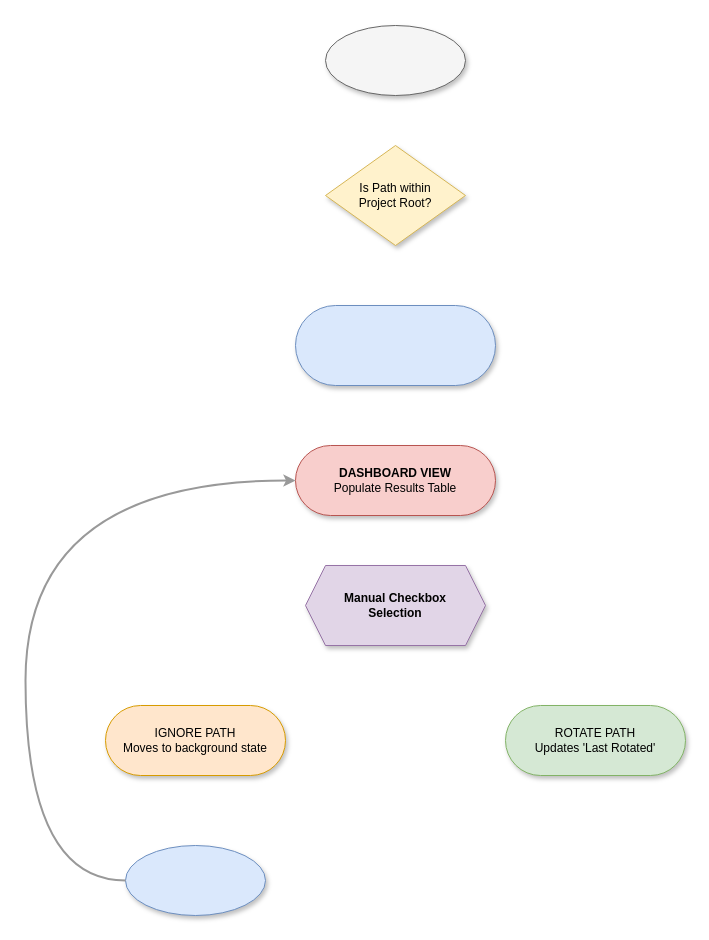
This 709x940 diagram has some shape labels left out. The shapes that lost their labels are listed below. From the top down, each one's centre as x and y in pixels, then its label:
At point (396, 61): "Project Entry".
At point (396, 346): "SCAN ENGINE Recursive Search Entropy Score Calculation".
At point (196, 881): "Mark Important (Restore to Main)".
